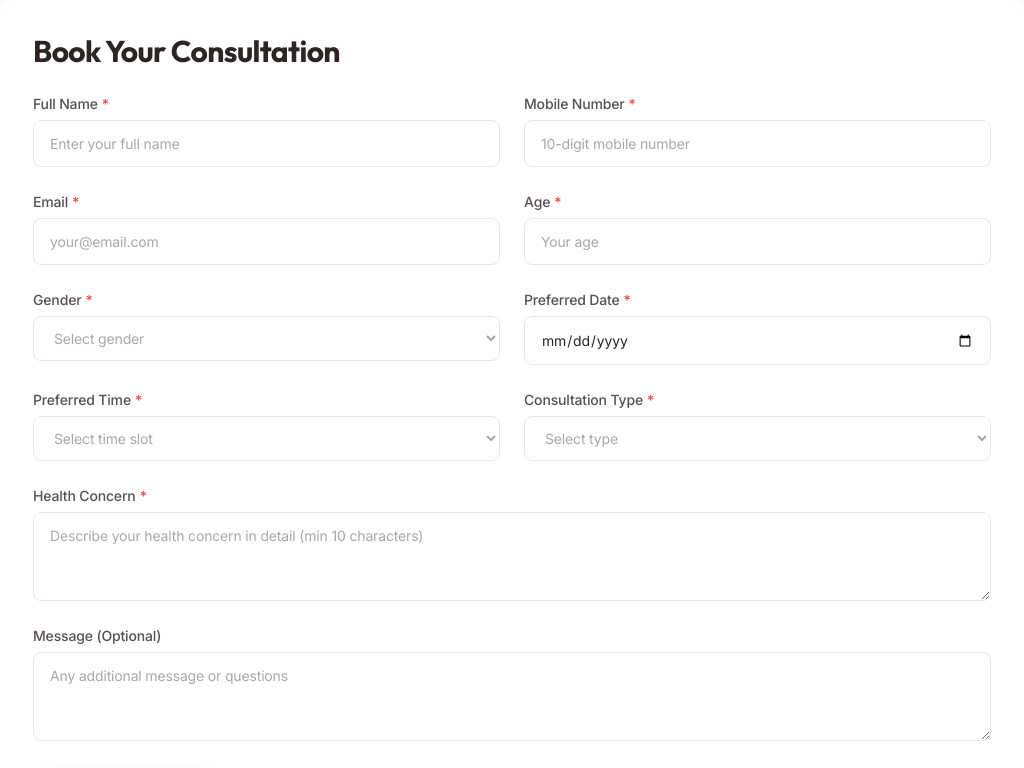
Test: AppointmentForm › Inline validation on blur › shows error for invalid mobile number on blur
Type "123" into the field labelled "Mobile Number*" at (758,144), box [524,120,991,167]
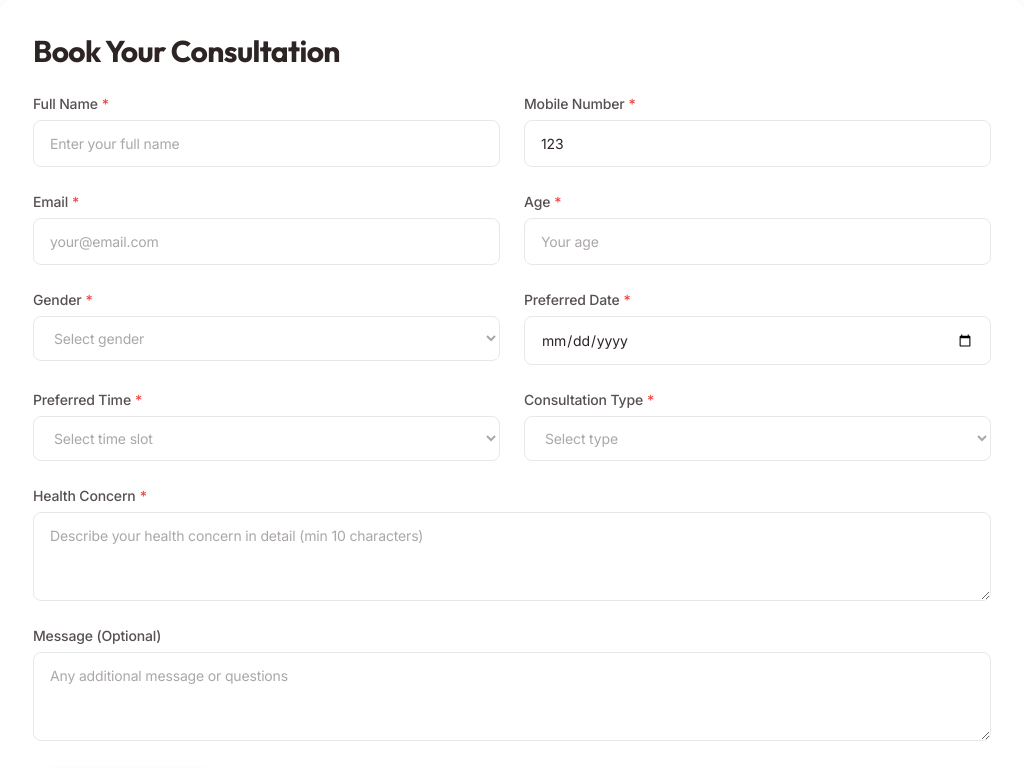
Leave the field labelled "Mobile Number*", box [524,120,991,167]
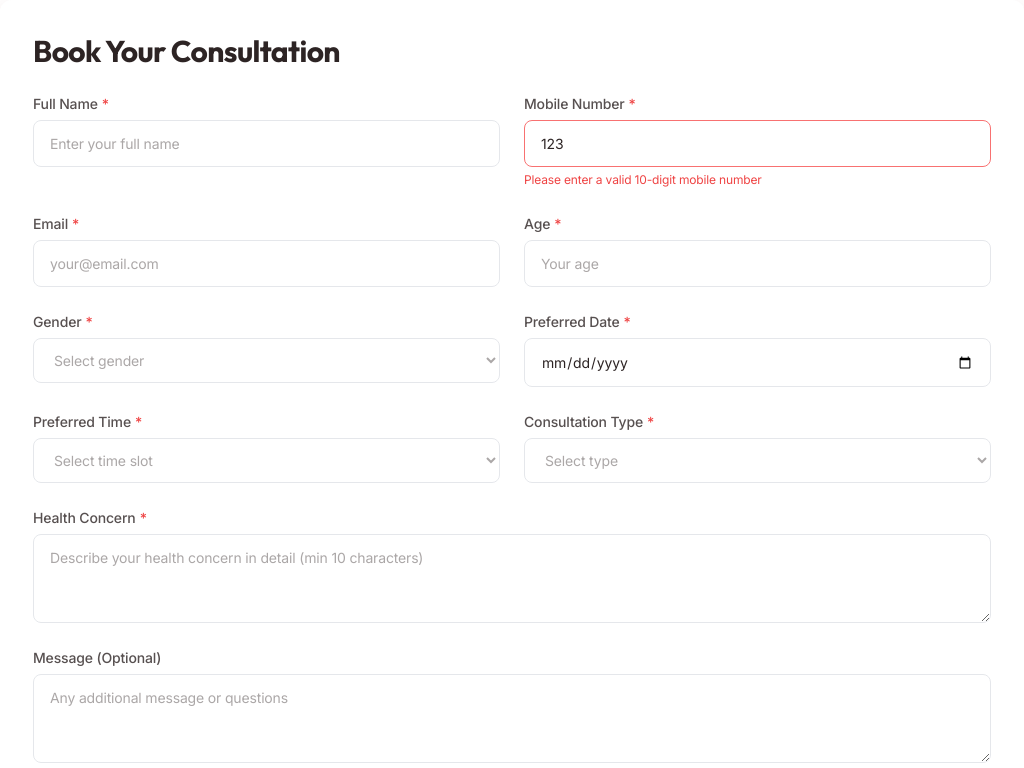
Expected: the text "Please enter a valid 10-digit mobile number" is shown, [524,172,762,187]
